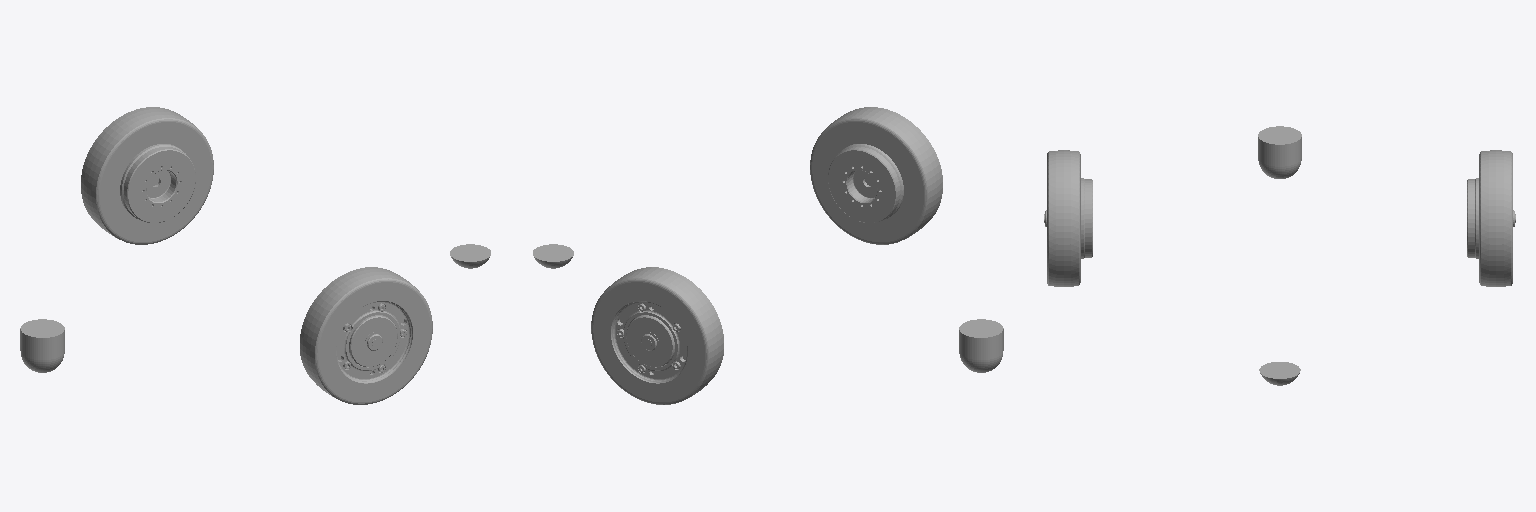
URDF robot description (igt_one):
<?xml version="1.0" ?>
<!-- =================================================================================== -->
<!-- |    This document was autogenerated by xacro from igt_one.xacro                  | -->
<!-- |    EDITING THIS FILE BY HAND IS NOT RECOMMENDED                                 | -->
<!-- =================================================================================== -->
<robot name="igt_one">
  <material name="silver">
    <color rgba="0.700 0.700 0.700 1.000"/>
  </material>
  <transmission name="right_motor_tran">
    <type>transmission_interface/SimpleTransmission</type>
    <joint name="right_motor">
      <hardwareInterface>hardware_interface/EffortJointInterface</hardwareInterface>
    </joint>
    <actuator name="right_motor_actr">
      <hardwareInterface>hardware_interface/EffortJointInterface</hardwareInterface>
      <mechanicalReduction>1</mechanicalReduction>
    </actuator>
  </transmission>
  <transmission name="left_motor_tran">
    <type>transmission_interface/SimpleTransmission</type>
    <joint name="left_motor">
      <hardwareInterface>hardware_interface/EffortJointInterface</hardwareInterface>
    </joint>
    <actuator name="left_motor_actr">
      <hardwareInterface>hardware_interface/EffortJointInterface</hardwareInterface>
      <mechanicalReduction>1</mechanicalReduction>
    </actuator>
  </transmission>
  <gazebo reference="base_link">
    <material>Gazebo/Silver</material>
  </gazebo>
  <gazebo reference="right_wheel">
    <material>Gazebo/DarkGrey</material>
  </gazebo>
  <gazebo reference="left_wheel">
    <material>Gazebo/DarkGrey</material>
  </gazebo>
  <gazebo reference="lidar">
    <material>Gazebo/Black</material>
  </gazebo>
  <gazebo reference="caster_front">
    <material>Gazebo/DarkGrey</material>
  </gazebo>
  <gazebo reference="caster_back">
    <material>Gazebo/DarkGrey</material>
  </gazebo>
  <gazebo reference="base_link">
    <mu1>1.0</mu1>
    <mu2>1.0</mu2>
    <selfCollide>true</selfCollide>
    <gravity>true</gravity>
  </gazebo>
  <gazebo reference="right_wheel">
    <mu1>500.0</mu1>
    <mu2>500.0</mu2>
    <selfCollide>true</selfCollide>
  </gazebo>
  <gazebo reference="left_wheel">
    <mu1>500.0</mu1>
    <mu2>500.0</mu2>
    <selfCollide>true</selfCollide>
  </gazebo>
  <gazebo reference="lidar">
    <mu1>1.0</mu1>
    <mu2>1.0</mu2>
    <selfCollide>true</selfCollide>
  </gazebo>
  <gazebo reference="caster_front">
    <mu1>0.01</mu1>
    <mu2>0.01</mu2>
    <selfCollide>true</selfCollide>
  </gazebo>
  <gazebo reference="caster_back">
    <mu1>0.01</mu1>
    <mu2>0.01</mu2>
    <selfCollide>true</selfCollide>
  </gazebo>
  <gazebo>
    <plugin filename="libgazebo_ros_control.so" name="gazebo_ros_control">
      <robotNamespace>/igt_one</robotNamespace>
      <robotSimType>gazebo_ros_control/DefaultRobotHWSim</robotSimType>
      <legacyModeNS>true</legacyModeNS>
    </plugin>
  </gazebo>
  <gazebo>
    <plugin filename="libgazebo_ros_diff_drive.so" name="differential_drive_controller">
      <legacyMode>false</legacyMode>
      <alwaysOn>true</alwaysOn>
      <updateRate>20</updateRate>
      <leftJoint>left_motor</leftJoint>
      <rightJoint>right_motor</rightJoint>
      <commandTopic>cmd_vel</commandTopic>
      <odometryTopic>odom</odometryTopic>
      <odometryFrame>odom</odometryFrame>
      <robotBaseFrame>base_link</robotBaseFrame>
    </plugin>
  </gazebo>
  <gazebo reference="lidar">
    <sensor name="front_lidar" type="ray">
      <pose>0 0 0 0 0 0</pose>
      <visualize>False</visualize>
      <update_rate>10</update_rate>
      <ray>
        <scan>
          <horizontal>
            <samples>720</samples>
            <resolution>1</resolution>
            <min_angle>-1.8326</min_angle>
            <max_angle>1.8326</max_angle>
          </horizontal>
        </scan>
        <range>
          <min>0.05</min>
          <max>20.0</max>
          <resolution>0.01</resolution>
        </range>
        <noise>
          <type>gaussian</type>
          <mean>0.0</mean>
          <stddev>0.01</stddev>
        </noise>
      </ray>
      <plugin filename="libgazebo_ros_laser.so" name="gazebo_ros_head_hokuyo_controller">
        <topicName>/igt_one/laserscan</topicName>
        <frameName>lidar</frameName>
      </plugin>
    </sensor>
  </gazebo> 
  <!-- T265 Fisheye:

  gazebo_ros_camera supports only plumb_bob
  D: [-0.007419134024530649, 0.041209351271390915, -0.03811917081475258, 0.006366158835589886, 0.0]

  <distortionK1>-0.007419134024530649</distortionK1>
  <distortionK2>0.041209351271390915</distortionK2>
  <distortionK3>-0.03811917081475258</distortionK3>
  <distortionT1>0.006366158835589886</distortionT1>
  <distortionT2>0.0</distortionT2>

       [fx'  0  cx' Tx]
   P = [ 0  fy' cy' Ty]
       [ 0   0   1   0]

   P : [ 285.5480041503906, 0.0, 416.00531005859375, 0.0,
         0.0, 285.3793029785156, 403.38909912109375, 0.0,
         0.0, 0.0, 1.0, 0.0 ]

  <CxPrime>416.00531005859375</CxPrime>

       [fx  0 cx]
   K = [ 0 fy cy]
       [ 0  0  1]

   K : [ 285.5480041503906, 0.0, 416.00531005859375,
         0.0, 285.3793029785156, 403.38909912109375,
         0.0, 0.0, 1.0]

  <Cx>16.00531005859375</Cx>
  <Cy>403.38909912109375</Cy>

  -->
  <!-- INTEL REALSENSE T265 -->
  <!-- INTEL REALSENSE D435 -->
  <!-- INTEL REALSENSE R200 -->
  <link name="base_link">
    <inertial>
      <origin rpy="0 0 0" xyz="-0.004974483575323383 -0.0035758177738972564 0.18631312686595136"/>
      <mass value="84.09101298868066"/>
      <inertia ixx="2.876599" ixy="0.017607" ixz="0.13258" iyy="3.744371" iyz="0.010085" izz="5.482298"/>
    </inertial>
    <visual>
      <origin rpy="0 0 0" xyz="0 0 0"/>
      <geometry>
        <mesh filename="package://igt_ignition/models/igt_one/meshes/base_link.stl" scale="0.001 0.001 0.001"/>
      </geometry>
      <material name="silver"/>
    </visual>
    <collision>
      <origin rpy="0 0 0" xyz="0 0 0"/>
      <geometry>
        <mesh filename="package://igt_ignition/models/igt_one/meshes/base_link.stl" scale="0.001 0.001 0.001"/>
      </geometry>
    </collision>
  </link>
  <link name="right_wheel">
    <inertial>
      <origin rpy="0 0 0" xyz="-1.0929629468137135e-09 -0.03010151532983879 4.1112970389223236e-09"/>
      <mass value="5.898129011485211"/>
      <inertia ixx="0.009626" ixy="0.0" ixz="3e-06" iyy="0.017338" iyz="0.0" izz="0.009622"/>
    </inertial>
    <visual>
      <origin rpy="0 0 0" xyz="-0.0 0.214022 -0.07811"/>
      <geometry>
        <mesh filename="package://igt_ignition/models/igt_one/meshes/right_wheel.stl" scale="0.001 0.001 0.001"/>
      </geometry>
      <material name="silver"/>
    </visual>
    <collision>
      <origin rpy="0 0 0" xyz="-0.0 0.214022 -0.07811"/>
      <geometry>
        <mesh filename="package://igt_ignition/models/igt_one/meshes/right_wheel.stl" scale="0.001 0.001 0.001"/>
      </geometry>
    </collision>
  </link>
  <link name="left_wheel">
    <inertial>
      <origin rpy="0 0 0" xyz="2.5995732144679098e-09 0.030101514738641783 1.0489695376203478e-08"/>
      <mass value="5.898130246494912"/>
      <inertia ixx="0.009626" ixy="0.0" ixz="3e-06" iyy="0.017338" iyz="0.0" izz="0.009622"/>
    </inertial>
    <visual>
      <origin rpy="0 0 0" xyz="-0.0 -0.214022 -0.07811"/>
      <geometry>
        <mesh filename="package://igt_ignition/models/igt_one/meshes/left_wheel.stl" scale="0.001 0.001 0.001"/>
      </geometry>
      <material name="silver"/>
    </visual>
    <collision>
      <origin rpy="0 0 0" xyz="-0.0 -0.214022 -0.07811"/>
      <geometry>
        <mesh filename="package://igt_ignition/models/igt_one/meshes/left_wheel.stl" scale="0.001 0.001 0.001"/>
      </geometry>
    </collision>
  </link>
  <link name="lidar">
    <inertial>
      <origin rpy="0 0 0" xyz="7.078254841363929e-06 -5.464739684171491e-06 -0.005199589249268707"/>
      <mass value="0.4698523118913531"/>
      <inertia ixx="0.000216" ixy="-0.0" ixz="0.0" iyy="0.000216" iyz="-0.0" izz="0.000424"/>
    </inertial>
    <visual>
      <origin rpy="0 0 0" xyz="-0.278738 -3e-06 -0.044475"/>
      <geometry>
        <mesh filename="package://igt_ignition/models/igt_one/meshes/lidar.stl" scale="0.001 0.001 0.001"/>
      </geometry>
      <material name="silver"/>
    </visual>
    <collision>
      <origin rpy="0 0 0" xyz="-0.278738 -3e-06 -0.044475"/>
      <geometry>
        <mesh filename="package://igt_ignition/models/igt_one/meshes/lidar.stl" scale="0.001 0.001 0.001"/>
      </geometry>
    </collision>
  </link>
  <link name="caster_front">
    <inertial>
      <origin rpy="0 0 0" xyz="4.318377576639776e-07 1.367821372708327e-07 -0.005984710300216307"/>
      <mass value="0.13434571750941451"/>
      <inertia ixx="1.6e-05" ixy="-0.0" ixz="-0.0" iyy="1.6e-05" iyz="0.0" izz="2.7e-05"/>
    </inertial>
    <visual>
      <origin rpy="0 0 0" xyz="-0.278737 -0.0 -0.01675"/>
      <geometry>
        <mesh filename="package://igt_ignition/models/igt_one/meshes/caster_front.stl" scale="0.001 0.001 0.001"/>
      </geometry>
      <material name="silver"/>
    </visual>
    <collision>
      <origin rpy="0 0 0" xyz="-0.278737 -0.0 -0.01675"/>
      <geometry>
        <mesh filename="package://igt_ignition/models/igt_one/meshes/caster_front.stl" scale="0.001 0.001 0.001"/>
      </geometry>
    </collision>
  </link>
  <link name="caster_back">
    <inertial>
      <origin rpy="0 0 0" xyz="1.4002657200418156e-08 -5.964100236044117e-16 -0.022599202626641616"/>
      <mass value="0.6846135803256423"/>
      <inertia ixx="0.000223" ixy="0.0" ixz="-0.0" iyy="0.000223" iyz="-0.0" izz="0.000198"/>
    </inertial>
    <visual>
      <origin rpy="0 0 0" xyz="0.279114 0.0 -0.05275"/>
      <geometry>
        <mesh filename="package://igt_ignition/models/igt_one/meshes/caster_back.stl" scale="0.001 0.001 0.001"/>
      </geometry>
      <material name="silver"/>
    </visual>
    <collision>
      <origin rpy="0 0 0" xyz="0.279114 0.0 -0.05275"/>
      <geometry>
        <mesh filename="package://igt_ignition/models/igt_one/meshes/caster_back.stl" scale="0.001 0.001 0.001"/>
      </geometry>
    </collision>
  </link>
  <!-- camera body, with origin at bottom screw mount -->
  <joint name="d435_joint" type="fixed">
    <origin rpy="0 0 0 " xyz="0 0 .5"/>
    <parent link="base_link"/>
    <child link="d435_bottom_screw_frame"/>
  </joint>
  <link name="d435_bottom_screw_frame"/>
  <joint name="d435_link_joint" type="fixed">
    <origin rpy="0 0 0" xyz="0 0.0175 0.0125"/>
    <parent link="d435_bottom_screw_frame"/>
    <child link="d435_link"/>
  </joint>
  <link name="d435_link">
    <visual>
      <origin rpy="1.5707963267948966 0 1.5707963267948966" xyz="0.0149 -0.0175 0"/>
      <geometry>
        <mesh filename="package://igt_ignition/models/igt_one/meshes/realsense_d435.stl"/>
      </geometry>
    </visual>
    <collision>
      <origin rpy="0 0 0" xyz="0 -0.0175 0"/>
      <geometry>
        <box size="0.02505 0.09 0.025"/>
      </geometry>
    </collision>
    <inertial>
      <mass value="0.564"/>
      <origin rpy="0 0 0" xyz="0 -0.0175 0"/>
      <inertia ixx="0.000410075" ixy="0" ixz="0" iyy="5.8867617499999996e-05" iyz="0" izz="5.8867617499999996e-05"/>
    </inertial>
  </link>
  <!-- camera depth joints and links -->
  <joint name="d435_depth_joint" type="fixed">
    <origin rpy="0 0 0" xyz="0 0 0"/>
    <parent link="d435_link"/>
    <child link="d435_depth_frame"/>
  </joint>
  <link name="d435_depth_frame"/>
  <joint name="d435_depth_optical_joint" type="fixed">
    <origin rpy="-1.5707963267948966 0 -1.5707963267948966" xyz="0 0 0"/>
    <parent link="d435_depth_frame"/>
    <child link="d435_depth_optical_frame"/>
  </joint>
  <link name="d435_depth_optical_frame"/>
  <!-- camera left IR joints and links -->
  <joint name="d435_left_ir_joint" type="fixed">
    <origin rpy="0 0 0" xyz="0 0.0 0"/>
    <parent link="d435_depth_frame"/>
    <child link="d435_left_ir_frame"/>
  </joint>
  <link name="d435_left_ir_frame"/>
  <joint name="d435_left_ir_optical_joint" type="fixed">
    <origin rpy="-1.5707963267948966 0 -1.5707963267948966" xyz="0 0 0"/>
    <parent link="d435_left_ir_frame"/>
    <child link="d435_left_ir_optical_frame"/>
  </joint>
  <link name="d435_left_ir_optical_frame"/>
  <!-- camera right IR joints and links -->
  <joint name="d435_right_ir_joint" type="fixed">
    <origin rpy="0 0 0" xyz="0 -0.05 0"/>
    <parent link="d435_depth_frame"/>
    <child link="d435_right_ir_frame"/>
  </joint>
  <link name="d435_right_ir_frame"/>
  <joint name="d435_right_ir_optical_joint" type="fixed">
    <origin rpy="-1.5707963267948966 0 -1.5707963267948966" xyz="0 0 0"/>
    <parent link="d435_right_ir_frame"/>
    <child link="d435_right_ir_optical_frame"/>
  </joint>
  <link name="d435_right_ir_optical_frame"/>
  <!-- camera color joints and links -->
  <joint name="d435_color_joint" type="fixed">
    <origin rpy="0 0 0" xyz="0 0.015 0"/>
    <parent link="d435_depth_frame"/>
    <child link="d435_color_frame"/>
  </joint>
  <link name="d435_color_frame"/>
  <joint name="d435_color_optical_joint" type="fixed">
    <origin rpy="-1.5707963267948966 0 -1.5707963267948966" xyz="0 0 0"/>
    <parent link="d435_color_frame"/>
    <child link="d435_color_optical_frame"/>
  </joint>
  <link name="d435_color_optical_frame"/>
  <!-- gazebo plugin -->
  <gazebo reference="d435_link">
    <self_collide>0</self_collide>
    <enable_wind>0</enable_wind>
    <kinematic>0</kinematic>
    <gravity>1</gravity>
    <mu2>1</mu2>
    <fdir1>0 0 0</fdir1>
    <kp>1e+13</kp>
    <kd>1</kd>
    <sensor name="d435_color" type="camera">
      <camera name="d435">
        <horizontal_fov>1.2112585008840648</horizontal_fov>
        <image>
          <width>640</width>
          <height>480</height>
          <format>RGB_INT8</format>
        </image>
        <clip>
          <near>0.1</near>
          <far>100</far>
        </clip>
        <noise>
          <type>gaussian</type>
          <mean>0.0</mean>
          <stddev>0.007</stddev>
        </noise>
      </camera>
      <always_on>1</always_on>
      <update_rate>30</update_rate>
      <visualize>1</visualize>
    </sensor>
    <sensor name="d435_ired1" type="camera">
      <camera name="d435">
        <horizontal_fov>1.4870205226991688</horizontal_fov>
        <image>
          <width>1280</width>
          <height>720</height>
          <format>L_INT8</format>
        </image>
        <clip>
          <near>0.1</near>
          <far>100</far>
        </clip>
        <noise>
          <type>gaussian</type>
          <mean>0.0</mean>
          <stddev>0.05</stddev>
        </noise>
      </camera>
      <always_on>1</always_on>
      <update_rate>90</update_rate>
      <visualize>0</visualize>
    </sensor>
    <sensor name="d435_ired2" type="camera">
      <camera name="d435">
        <horizontal_fov>1.4870205226991688</horizontal_fov>
        <image>
          <width>1280</width>
          <height>720</height>
          <format>L_INT8</format>
        </image>
        <clip>
          <near>0.1</near>
          <far>100</far>
        </clip>
        <noise>
          <type>gaussian</type>
          <mean>0.0</mean>
          <stddev>0.05</stddev>
        </noise>
      </camera>
      <always_on>1</always_on>
      <update_rate>90</update_rate>
      <visualize>0</visualize>
    </sensor>
    <sensor name="d435_depth" type="depth">
      <camera name="d435">
        <horizontal_fov>1.4870205226991688</horizontal_fov>
        <image>
          <width>1280</width>
          <height>720</height>
        </image>
        <clip>
          <near>0.1</near>
          <far>100</far>
        </clip>
        <noise>
          <type>gaussian</type>
          <mean>0.0</mean>
          <stddev>0.100</stddev>
        </noise>
      </camera>
      <always_on>1</always_on>
      <update_rate>90</update_rate>
      <visualize>0</visualize>
    </sensor>
  </gazebo>
  <gazebo>
    <plugin filename="librealsense_gazebo_plugin.so" name="d435">
      <prefix>d435_</prefix>
      <depthUpdateRate>10</depthUpdateRate>
      <colorUpdateRate>10</colorUpdateRate>
      <infraredUpdateRate>10</infraredUpdateRate>
      <depthTopicName>depth/image_raw</depthTopicName>
      <depthCameraInfoTopicName>depth/camera_info</depthCameraInfoTopicName>
      <colorTopicName>color/image_raw</colorTopicName>
      <colorCameraInfoTopicName>color/camera_info</colorCameraInfoTopicName>
      <infrared1TopicName>infra1/image_raw</infrared1TopicName>
      <infrared1CameraInfoTopicName>infra1/camera_info</infrared1CameraInfoTopicName>
      <infrared2TopicName>infra2/image_raw</infrared2TopicName>
      <infrared2CameraInfoTopicName>infra2/camera_info</infrared2CameraInfoTopicName>
      <colorOpticalframeName>d435_color_optical_frame</colorOpticalframeName>
      <depthOpticalframeName>d435_depth_optical_frame</depthOpticalframeName>
      <infrared1OpticalframeName>d435_infrared1_optical_frame</infrared1OpticalframeName>
      <infrared2OpticalframeName>d435_infrared2_optical_frame</infrared2OpticalframeName>
      <rangeMinDepth>0.2</rangeMinDepth>
      <rangeMaxDepth>10.0</rangeMaxDepth>
      <pointCloud>false</pointCloud>
      <pointCloudTopicName>depth/color/points</pointCloudTopicName>
      <pointCloudCutoff>0.25</pointCloudCutoff>
      <pointCloudCutoffMax>9.0</pointCloudCutoffMax>
    </plugin>
  </gazebo>
  <joint name="right_motor" type="continuous">
    <origin rpy="0 0 0" xyz="0.0 -0.214022 0.07811"/>
    <parent link="base_link"/>
    <child link="right_wheel"/>
    <axis xyz="-0.0 0.01 -0.0"/>
  </joint>
  <joint name="left_motor" type="continuous">
    <origin rpy="0 0 0" xyz="0.0 0.214022 0.07811"/>
    <parent link="base_link"/>
    <child link="left_wheel"/>
    <axis xyz="-0.0 0.01 -0.0"/>
  </joint>
  <joint name="Rigid3" type="fixed">
    <origin rpy="0 0 0" xyz="0.278738 3e-06 0.044475"/>
    <parent link="base_link"/>
    <child link="lidar"/>
  </joint>
  <joint name="Rigid4" type="fixed">
    <origin rpy="0 0 0" xyz="0.278737 0.0 0.01675"/>
    <parent link="base_link"/>
    <child link="caster_front"/>
  </joint>
  <joint name="Rigid5" type="fixed">
    <origin rpy="0 0 0" xyz="-0.279114 0.0 0.05275"/>
    <parent link="base_link"/>
    <child link="caster_back"/>
  </joint>
</robot>

--- Facts derived from the render (not from the file) ---
3 views of the same robot in one strip: view 1: azimuth 30°, elevation 25°; view 2: azimuth 150°, elevation 25°; view 3: azimuth 270°, elevation 25° (orthographic).
Model igt_one with 16 links and 15 joints (2 continuous, 13 fixed), rooted at base_link, posed all joints at 0.
Links seen in each view (by area): view 1: left_wheel, right_wheel, caster_back, caster_front; view 2: right_wheel, left_wheel, caster_back, caster_front; view 3: right_wheel, left_wheel, caster_back, caster_front.
Boxes of the visible links, x1=… form: left_wheel: x1=81, y1=107, x2=213, y2=244; right_wheel: x1=300, y1=267, x2=432, y2=404; caster_back: x1=20, y1=319, x2=64, y2=372; caster_front: x1=450, y1=244, x2=490, y2=268; right_wheel: x1=810, y1=107, x2=942, y2=244; left_wheel: x1=591, y1=267, x2=723, y2=404; caster_back: x1=959, y1=319, x2=1003, y2=372; caster_front: x1=533, y1=244, x2=573, y2=268; right_wheel: x1=1044, y1=150, x2=1092, y2=286; left_wheel: x1=1467, y1=150, x2=1515, y2=286; caster_back: x1=1258, y1=126, x2=1301, y2=178; caster_front: x1=1259, y1=362, x2=1300, y2=385.
Size in the robot's own frame: 0.6064 by 0.5384 by 0.1564 metres.
4 mesh visuals loaded from 7 distinct referenced files (4 binary STL); not drawn: 3 (reference not matched to a file when rendering).
